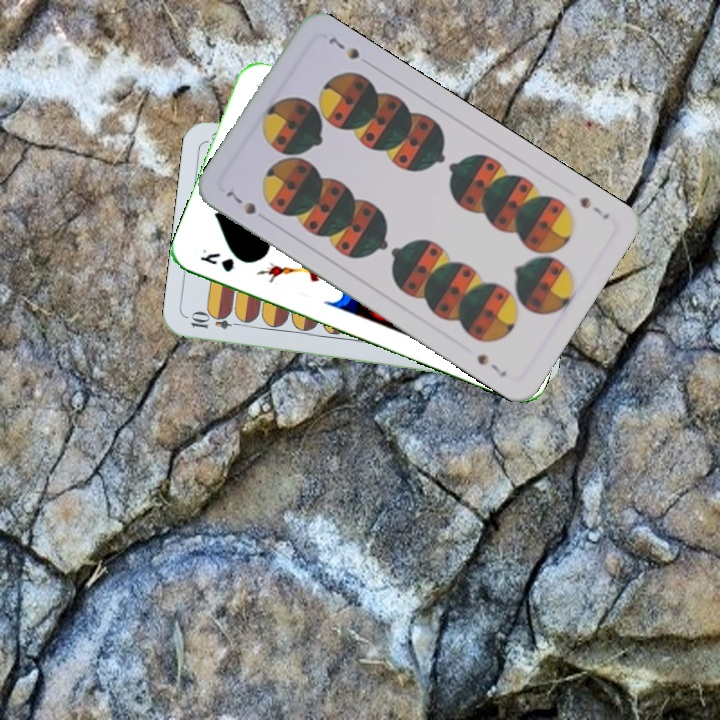E10: (187, 311, 246, 332)
GK: (195, 245, 237, 275)
S7: (221, 186, 259, 217), (575, 193, 612, 222)
